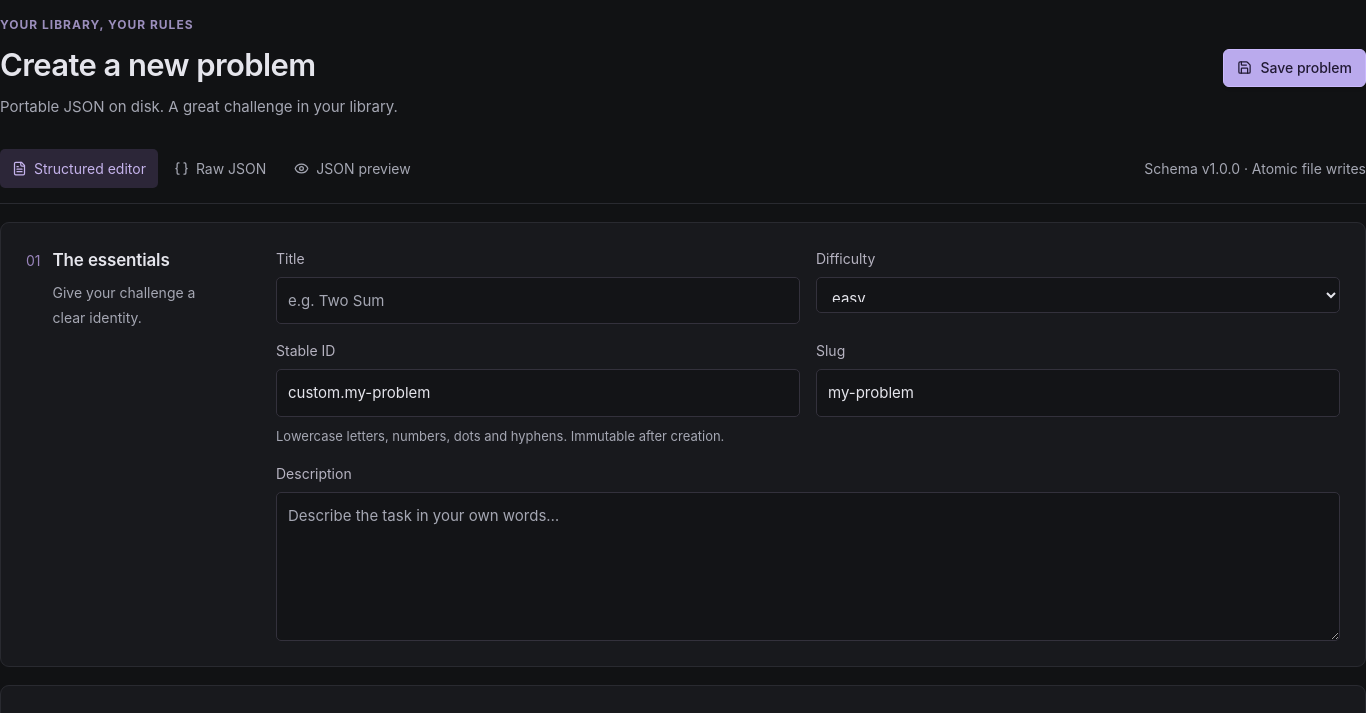
Scenario: keeps invalid raw JSON for correction
Click the button "Raw JSON" at (220, 168), box [162, 149, 278, 188]
(page scrolled)
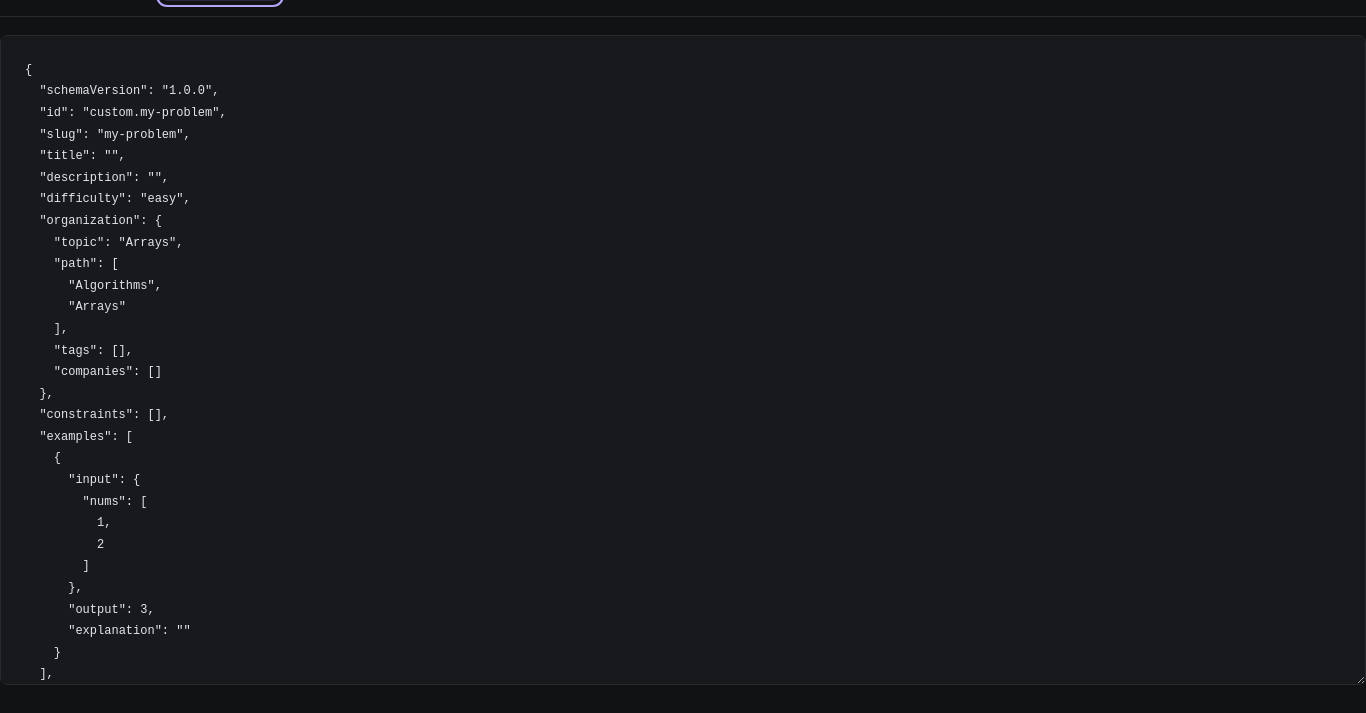
Replace the text in the text box named "Raw problem JSON" with "invalid" at (683, 360), box [0, 35, 1365, 685]
(page scrolled)
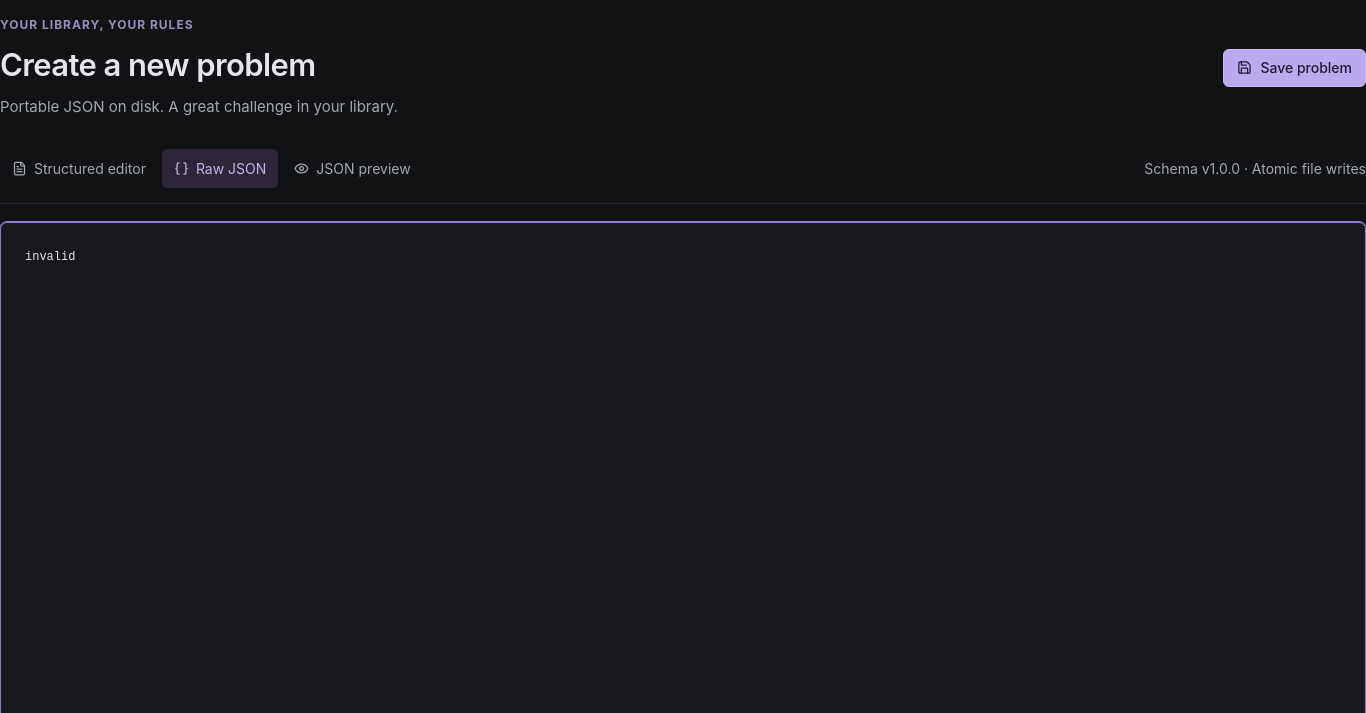
Click the button "Save problem" at (1295, 68), box [1223, 49, 1365, 87]
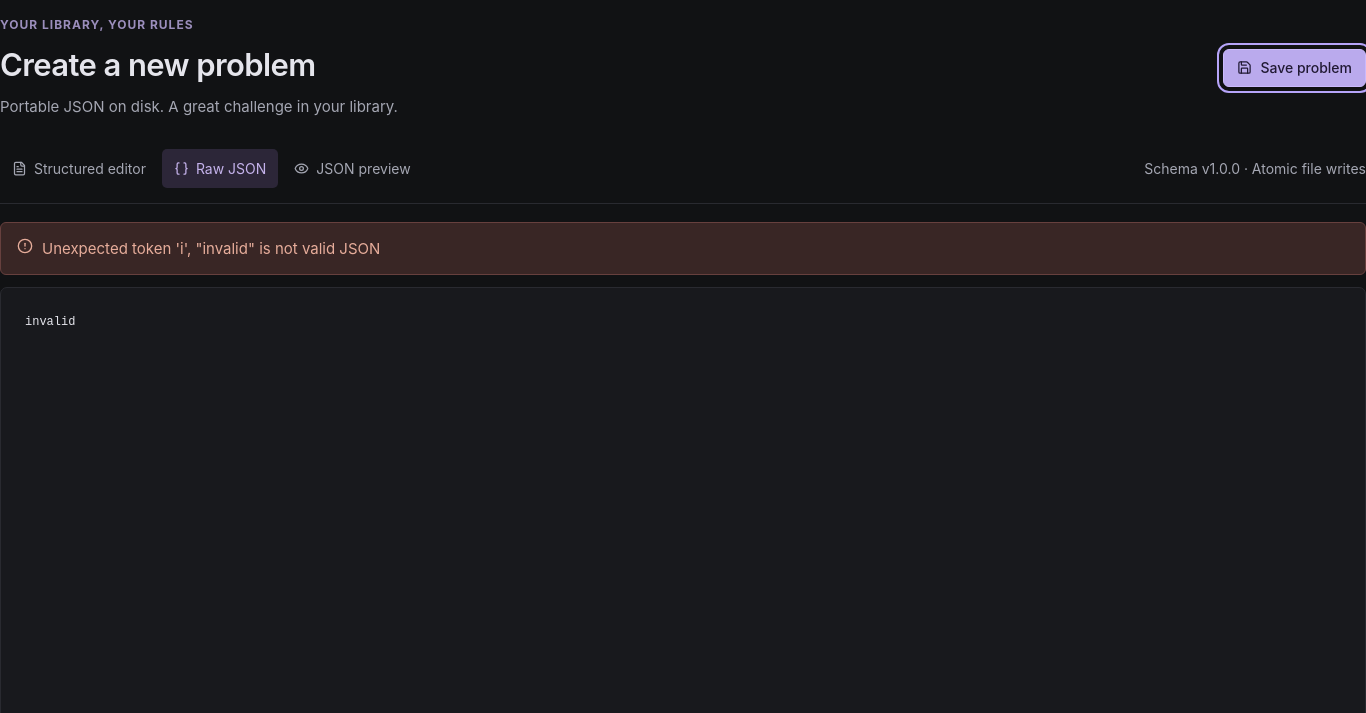
Now the message is shown, box [0, 222, 1365, 275]
